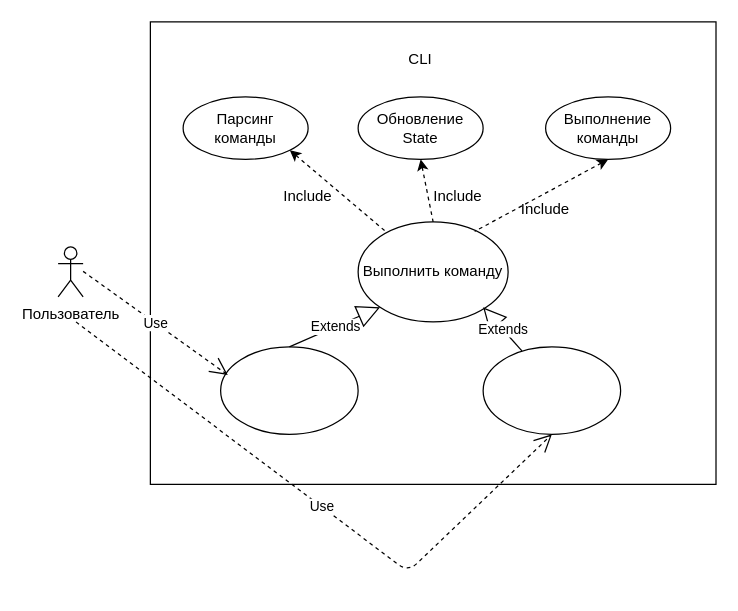
Some shapes in this 738 by 611 pixel diagram are drawn without their labels. Each missing label, with the box of its shape:
Вызов команды: (219, 346, 358, 434)
Объявление переменной: (482, 346, 621, 434)
